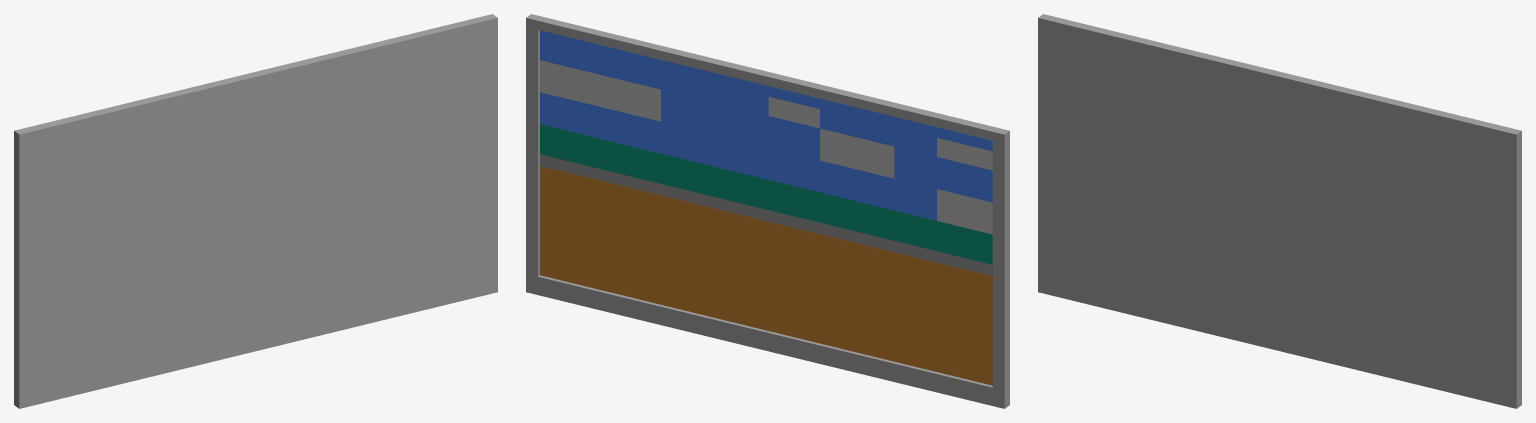
The model's file is Painting-Ocean_01.fbx.
3 renders of one model, left to right at view 1: azimuth 30°, elevation 25°; view 2: azimuth 150°, elevation 25°; view 3: azimuth 330°, elevation 25°, orthographic.
Parts seen in each view (by area): view 1: Painting-Ocean_01; view 2: Painting-Ocean_01; view 3: Painting-Ocean_01.
Boxes of the visible parts, left/top/right/bottom form: Painting-Ocean_01: left=14, top=14, right=497, bottom=408; Painting-Ocean_01: left=526, top=14, right=1009, bottom=408; Painting-Ocean_01: left=1038, top=14, right=1521, bottom=408.
Bounding box in the file's own units: 234 × 128 × 4.51.
